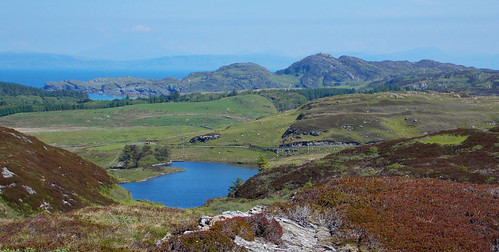mountain: (179, 51, 499, 88)
river: (120, 157, 256, 206)
sky: (25, 1, 499, 54)
vegetation: (20, 90, 499, 154), (280, 156, 499, 252), (2, 139, 122, 252)
